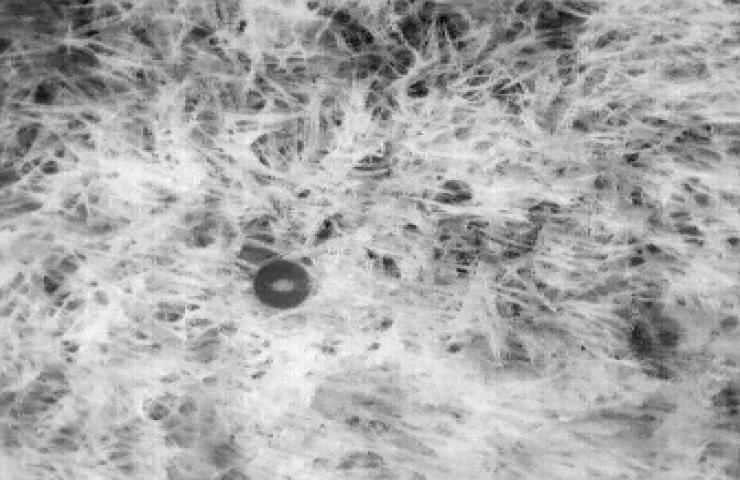landmines: (251, 259, 317, 312)
